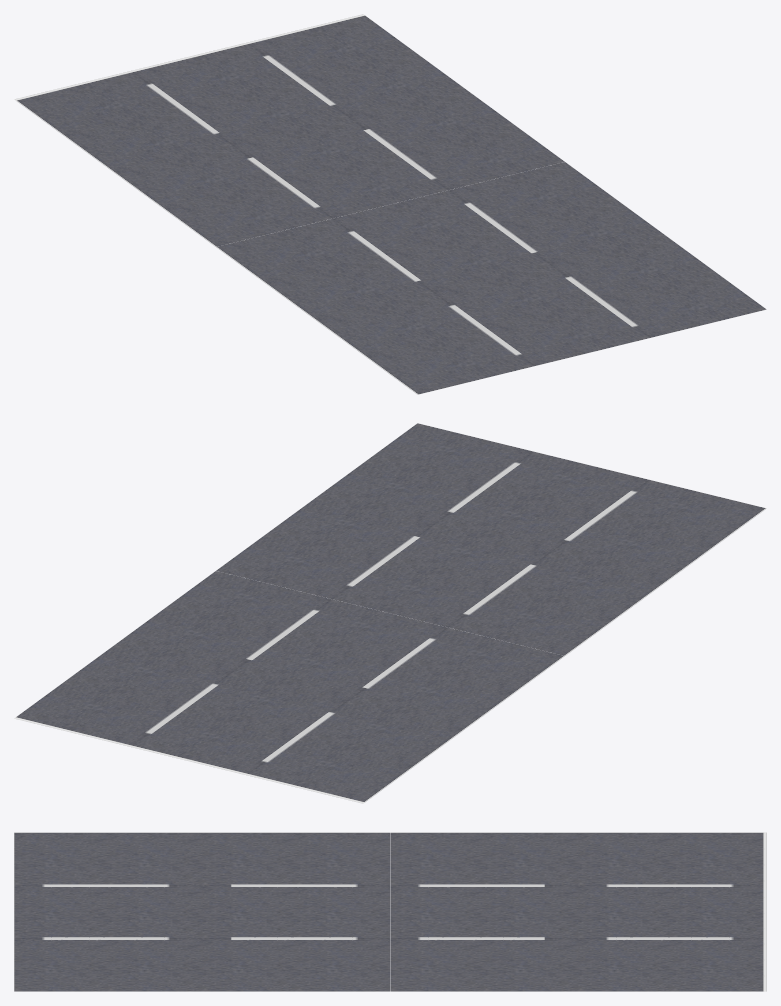
Rendered from ground.fbx.
3 views of the same model, one above another, from view 1: azimuth 30°, elevation 25°; view 2: azimuth 150°, elevation 25°; view 3: azimuth 270°, elevation 25° (orthographic). The views are drawn at different scales.
Parts seen in each view (by area): view 1: pPlane2; view 2: pPlane2; view 3: pPlane2.
Part boxes in pixels (x1,y1,x2,y2): pPlane2: (14,14,766,394); pPlane2: (14,423,766,803); pPlane2: (14,832,766,991).
Size of the model in its own units: 1 by 0 by 2.
Materials: 1 (1 with a texture image).
